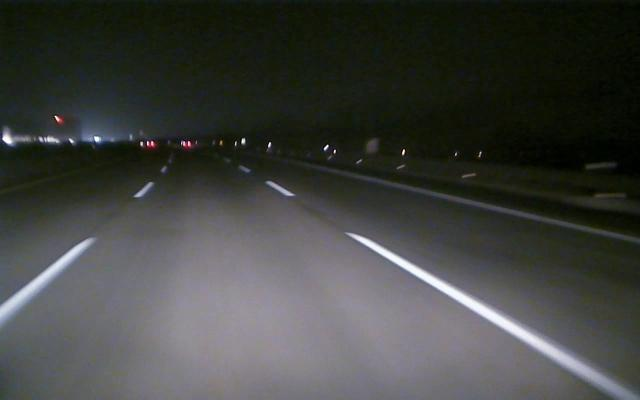lane: (269, 182, 637, 398), (1, 183, 152, 325), (367, 177, 640, 245)
